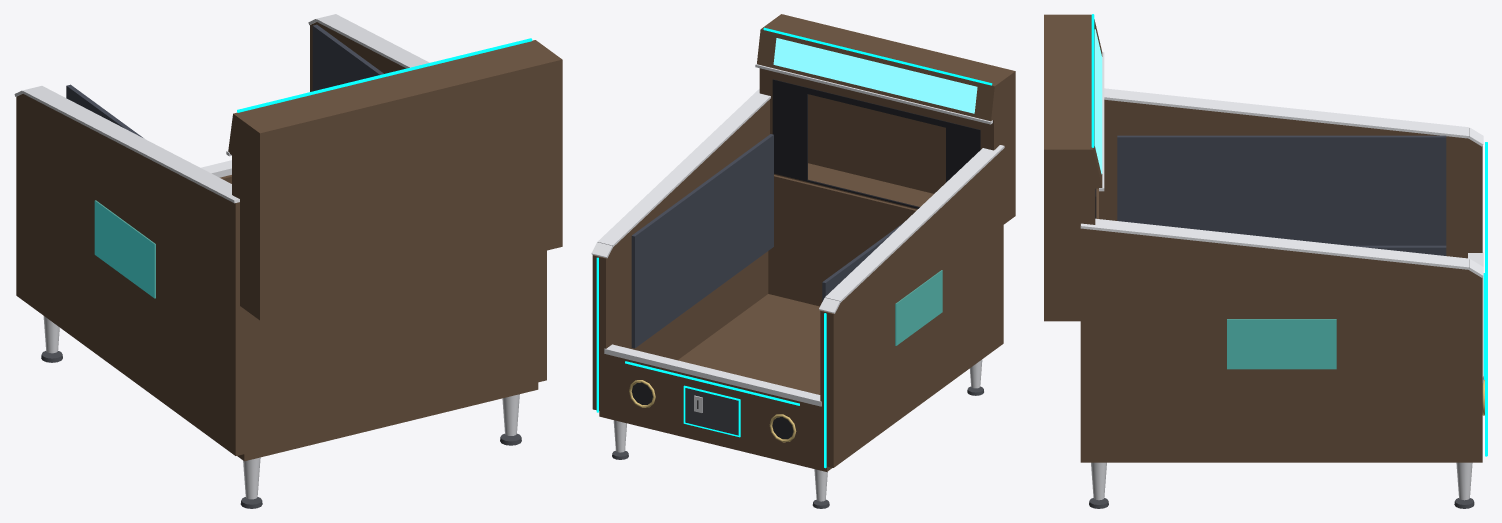
The model's file is simple.glb.
3 renders of one model, left to right at view 1: azimuth 30°, elevation 25°; view 2: azimuth 150°, elevation 25°; view 3: azimuth 270°, elevation 25°, orthographic. The views are drawn at different scales.
Visible parts, largest first — view 1: cabinetRightSide, cabinetBackbox, cabinetBackPanel, cabinetMarquee, cabinetRightRail, classicSidePlateRight, cabinetLeftSide, cabinetLeftInner, cabinetBase, cabinetLeftRail, cabinetNeonMarquee, cabinetRightInner (+2 smaller); view 2: cabinetRightSide, cabinetLeftInner, cabinetBackbox, cabinetLeftSide, cabinetBackPanel, cabinetBase, cabinetFrontPanel, cabinetMarquee, cabinetBezelInset, cabinetMarqueeGlow, cabinetRightRail, cabinetLeftRail (+10 smaller); view 3: cabinetLeftSide, cabinetRightInner, cabinetRightSide, cabinetMarquee, classicSidePlateLeft, cabinetBackbox, cabinetLeftRail, cabinetRightRail, cabinetBase, cabinetMarqueeGlow, cabinetLeftInner, cabinetNeonLeft (+3 smaller).
Part boxes in pixels (x1,y1,x2,y2): cabinetRightSide: (16,94,252,455); cabinetBackbox: (232,102,562,320); cabinetBackPanel: (253,255,529,451); cabinetMarquee: (228,40,562,175); cabinetRightRail: (14,85,239,203); classicSidePlateRight: (94,200,155,298); cabinetLeftSide: (310,22,546,384); cabinetLeftInner: (312,24,383,91); cabinetBase: (237,382,538,461); cabinetLeftRail: (308,14,429,68); cabinetNeonMarquee: (237,38,532,112); cabinetRightInner: (66,84,142,137); cabinetRightSide: (820,149,1003,467); cabinetLeftInner: (631,134,773,348); cabinetBackbox: (759,68,1015,224); cabinetLeftSide: (592,99,769,412); cabinetBackPanel: (768,175,916,306); cabinetBase: (599,294,831,471); cabinetFrontPanel: (606,354,820,464); cabinetMarquee: (757,14,1015,121); cabinetBezelInset: (772,79,980,208); cabinetMarqueeGlow: (773,38,977,113); cabinetRightRail: (819,145,1004,313); cabinetLeftRail: (591,89,770,258); cabinetLeftSide: (1080,228,1482,459); cabinetRightInner: (1117,135,1446,245); cabinetRightSide: (1099,99,1482,258); cabinetMarquee: (1044,14,1102,188); classicSidePlateLeft: (1227,319,1336,369); cabinetBackbox: (1044,188,1095,321); cabinetLeftRail: (1080,218,1483,277); cabinetRightRail: (1104,88,1483,146); cabinetBase: (1080,459,1482,462); cabinetMarqueeGlow: (1094,29,1102,174); cabinetLeftInner: (1350,245,1446,255); cabinetNeonLeft: (1485,273,1487,456).
Bounding box in the file's own units: 36.3 × 44.34 × 48.56.
